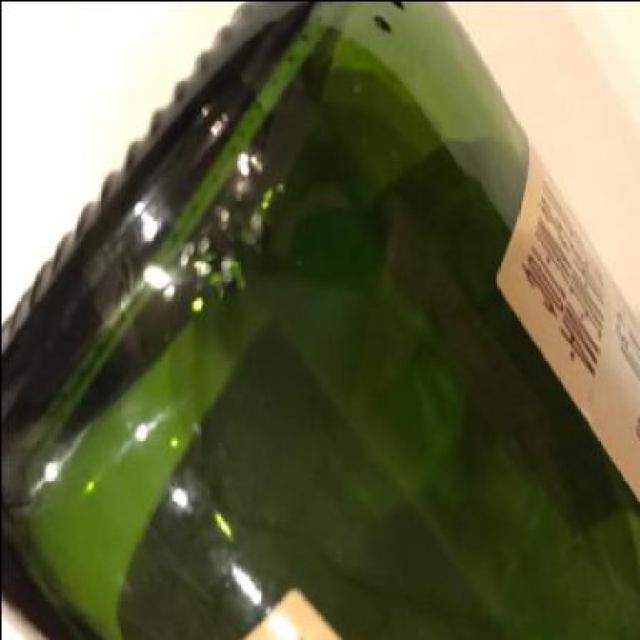GLASS: (1, 1, 638, 638)
PAPER: (496, 135, 640, 505)
